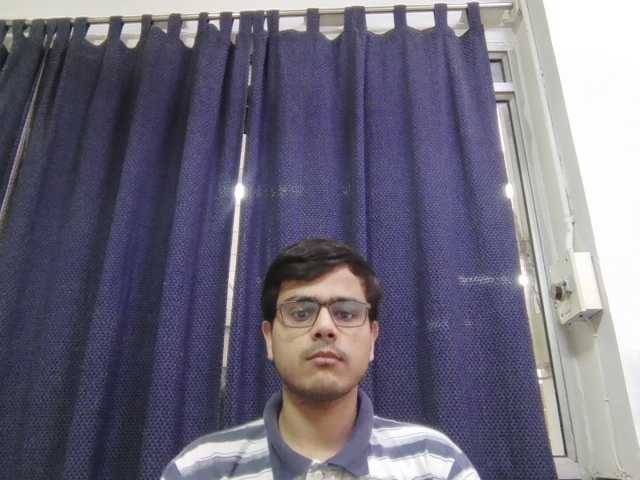face: (259, 240, 382, 399)
